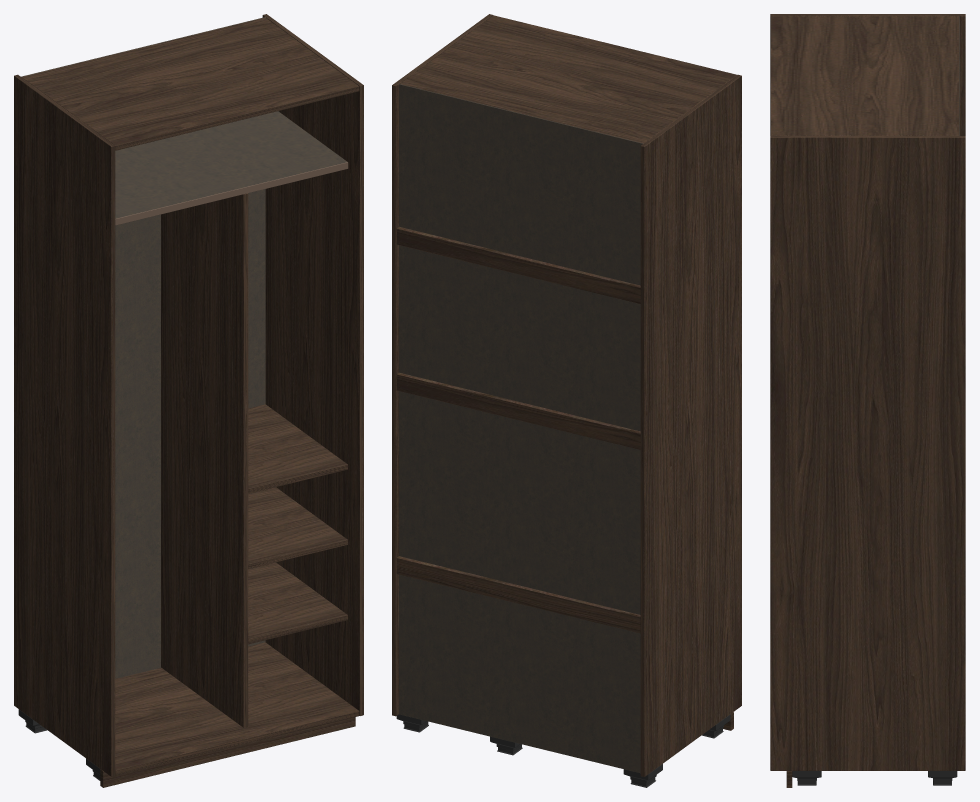
3 views of the same model, side by side, from view 1: azimuth 30°, elevation 25°; view 2: azimuth 150°, elevation 25°; view 3: azimuth 270°, elevation 25° (orthographic).
Parts seen in each view (by area): view 1: HK1001080; view 2: HK1001080; view 3: HK1001080.
Part boxes in pixels (x1,y1,x2,y2): HK1001080: (14, 14, 363, 787); HK1001080: (392, 14, 741, 787); HK1001080: (770, 14, 965, 787).
Size of the model in its own units: 0.9 by 2.2 by 0.6.
6 materials, 5 textured.
